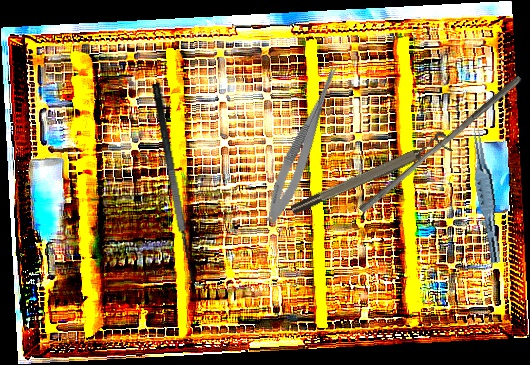Fixation Ring: (286, 129, 453, 218)
Micro Scissor: (260, 55, 346, 227)
Pusher: (358, 68, 523, 220)
Spatula Surgical: (149, 80, 211, 290)
Tissue Forceps: (464, 126, 509, 264)
